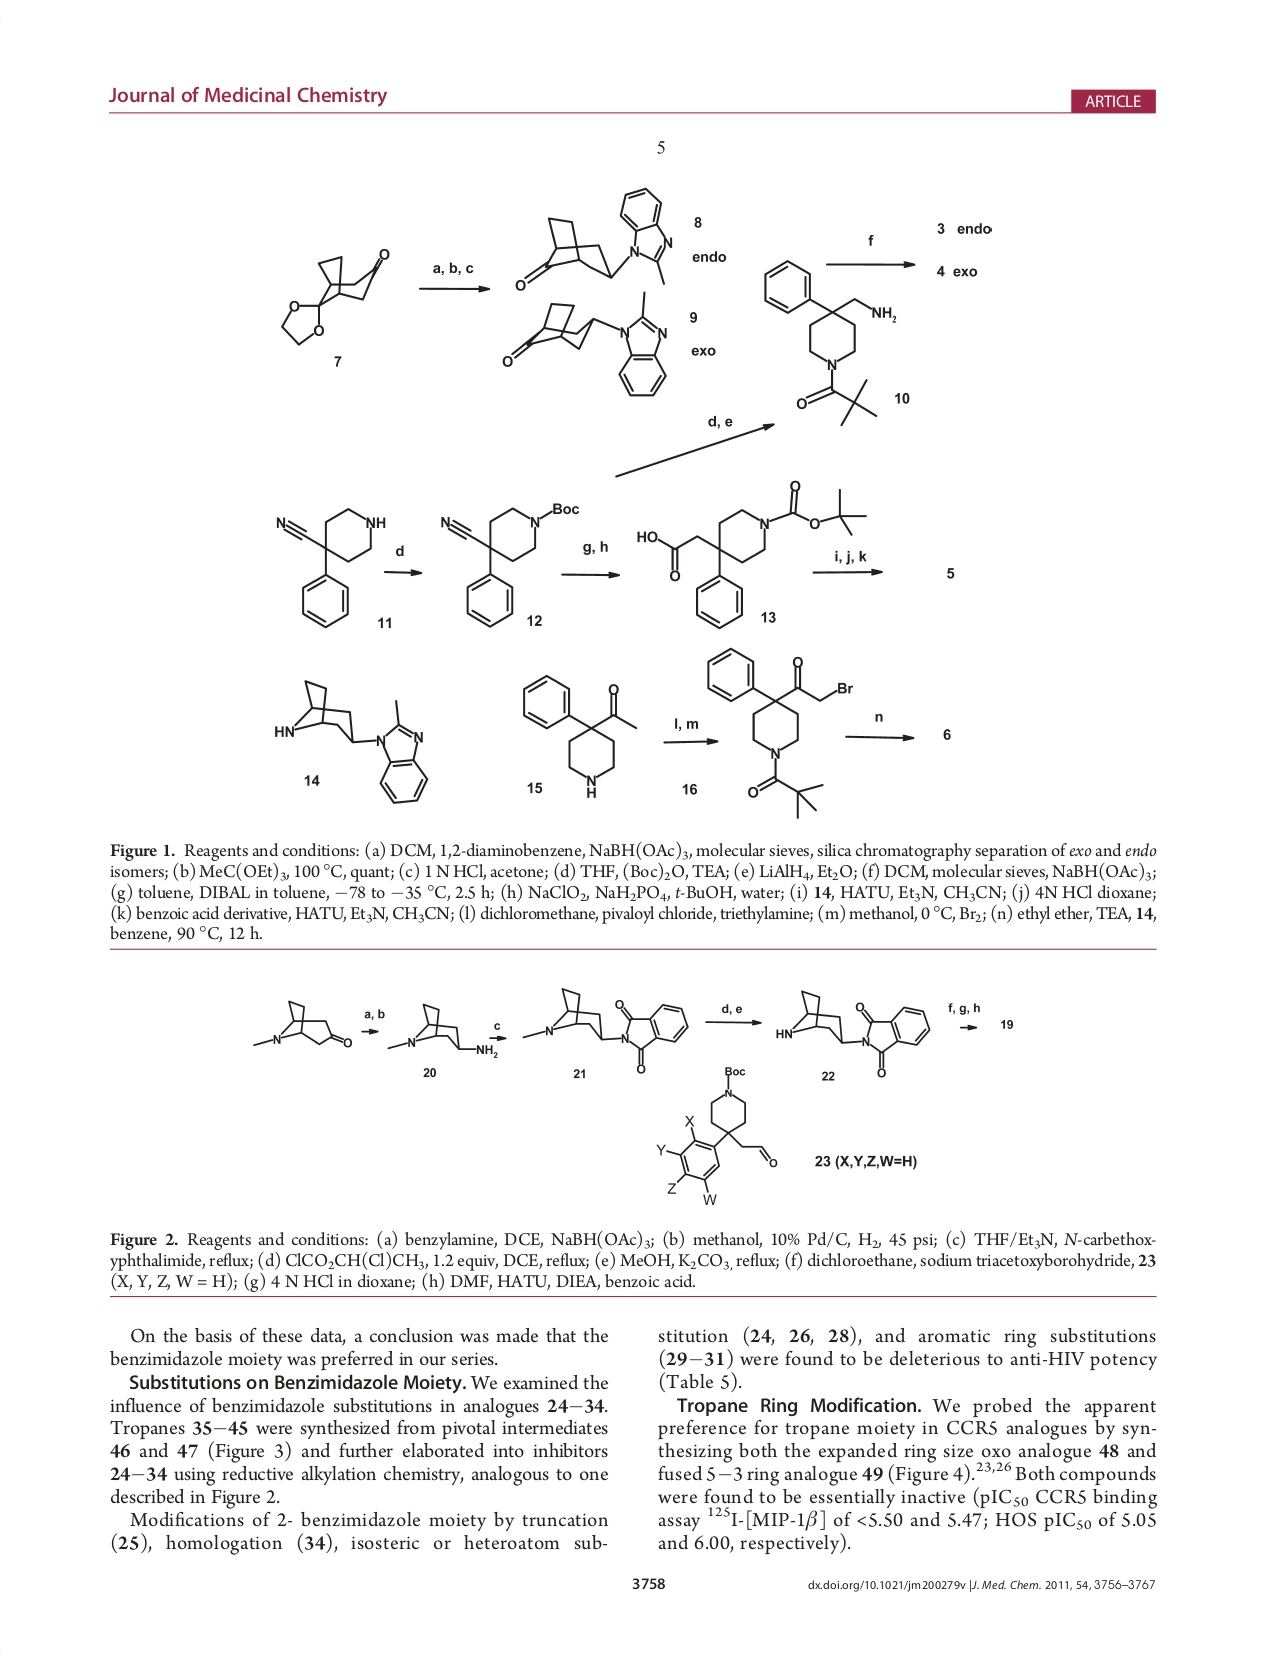exist_molecular: (636, 473, 870, 630), (703, 644, 856, 821), (758, 255, 898, 426), (270, 672, 432, 807), (501, 290, 674, 398), (438, 500, 580, 630), (511, 182, 680, 291), (654, 1063, 781, 1205), (519, 669, 642, 799), (270, 500, 390, 630), (520, 984, 690, 1075), (773, 987, 934, 1077), (273, 239, 392, 346), (387, 999, 501, 1061), (249, 995, 354, 1051)
